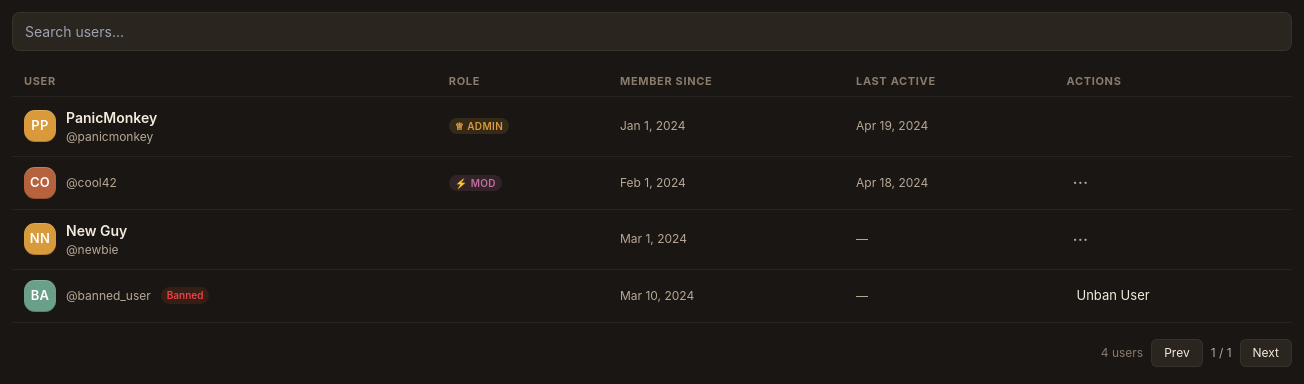
Test: UserTable — search › filters rows by banned status
Type "banned" into the field with class "user-search" at (652, 32), box [12,12,1292,51]
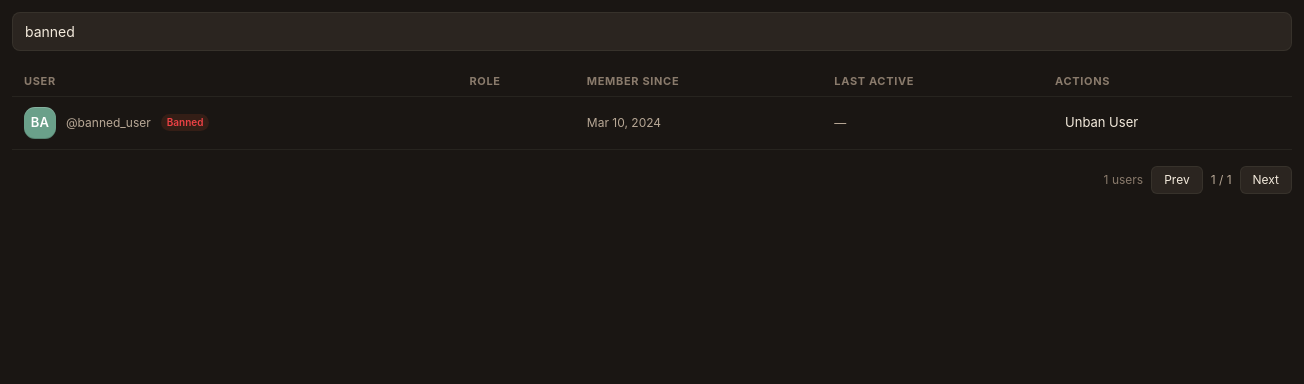
Check: the text "@banned_user" is shown, box [66,114,151,132]
Check: the number of rows with class "user-row" is 1, box [12,96,1292,149]
